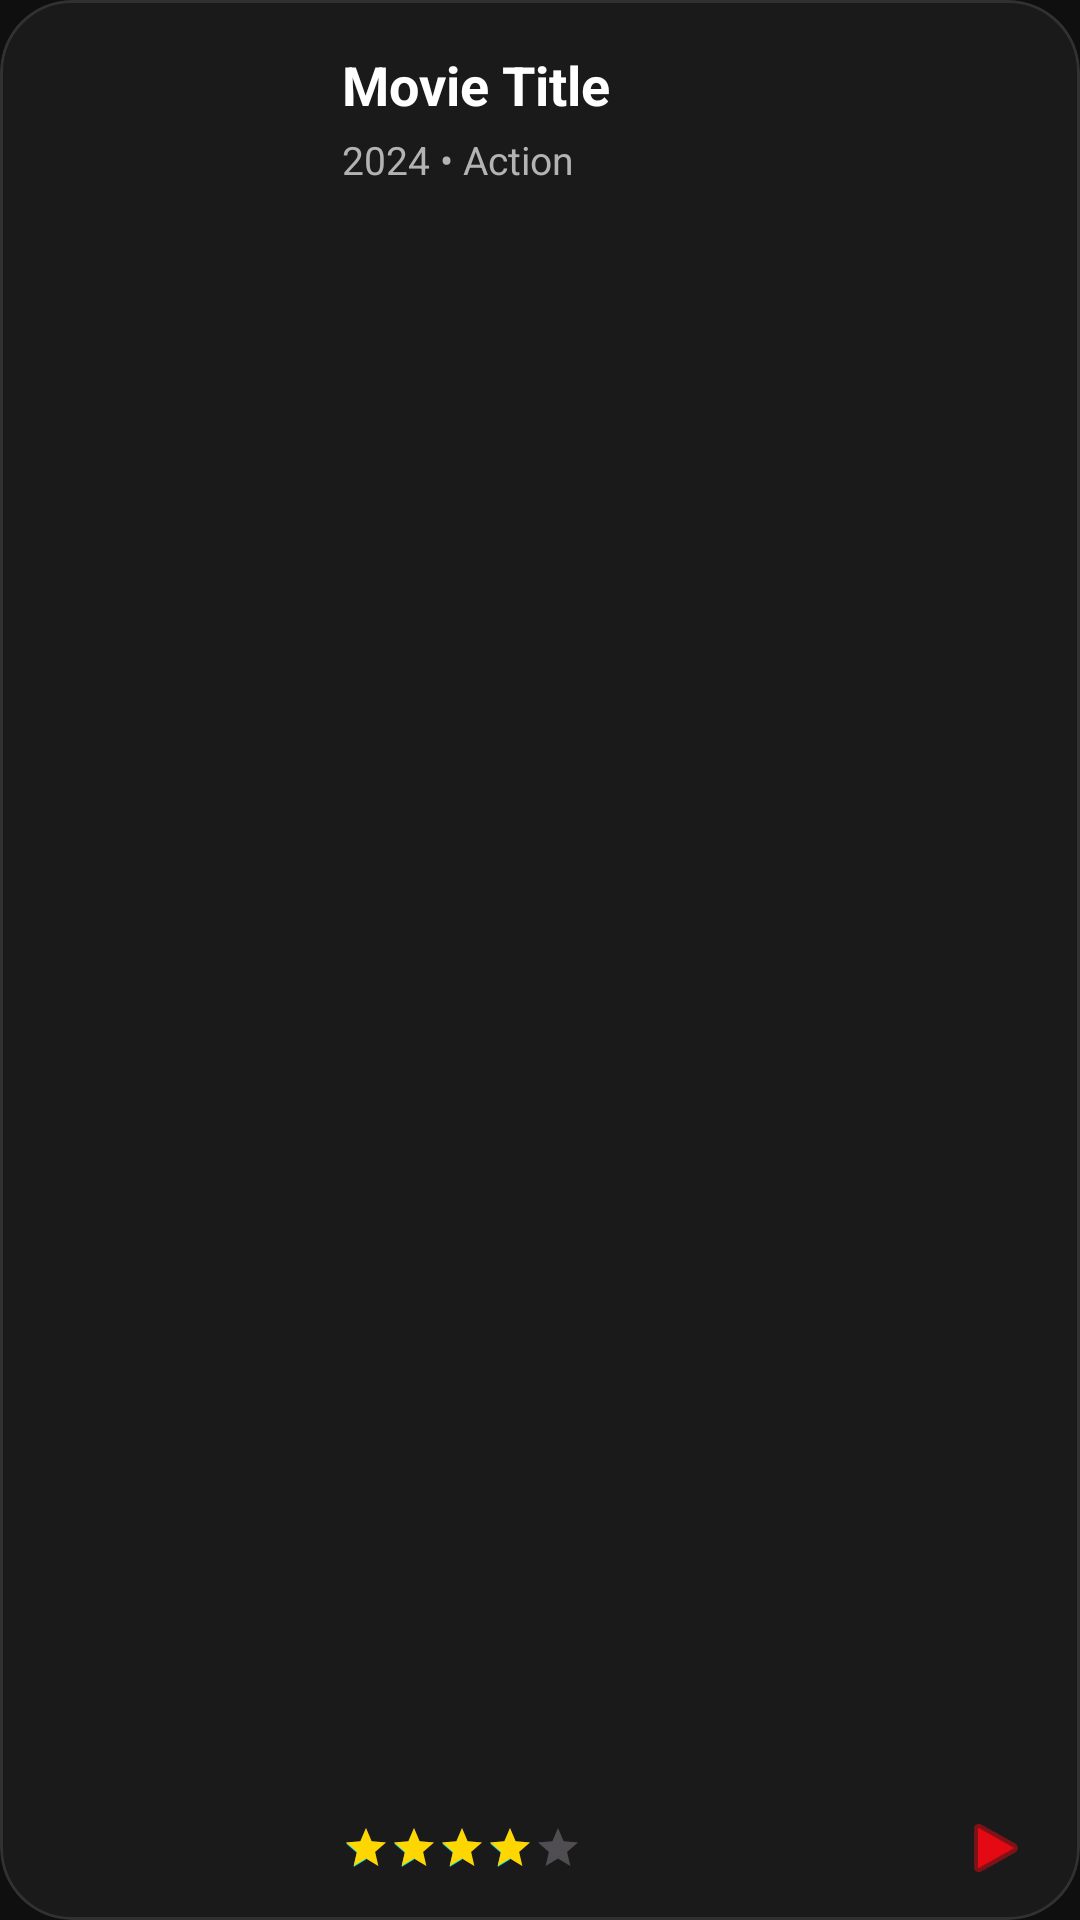

Where to tap for icons on this 1080×1920 app screen, as point (x, y):
play: point (996, 1848)
